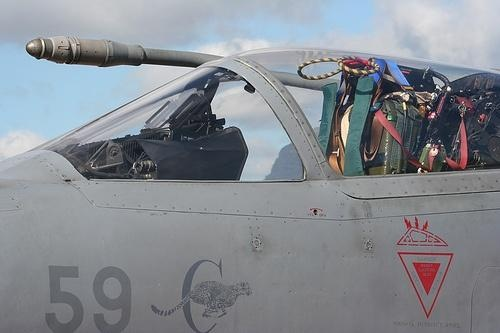aeroplane: (2, 36, 500, 332)
